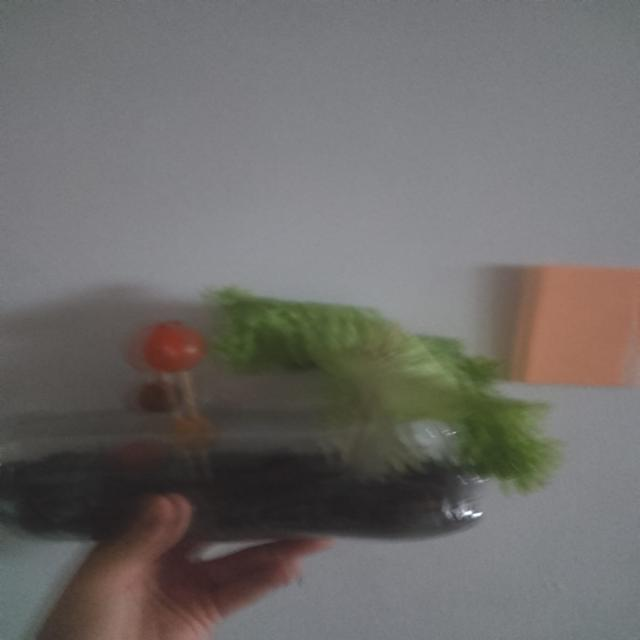card: (509, 265, 639, 387)
fruit_maturation: (142, 322, 204, 373)
